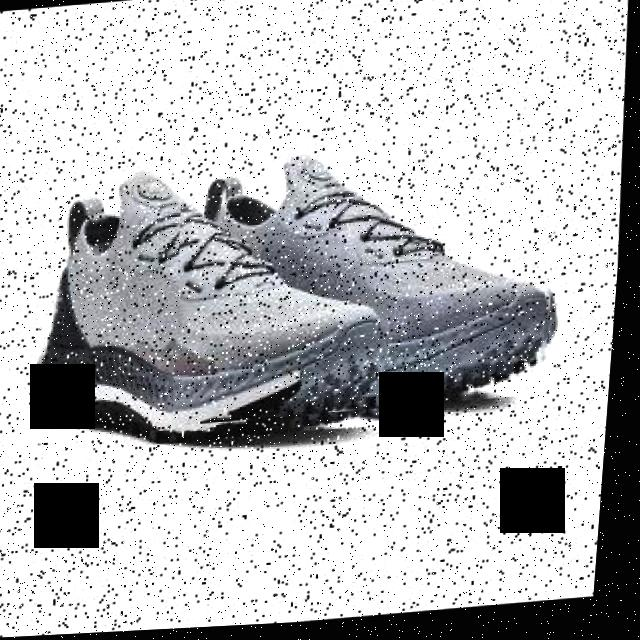shoe: (170, 139, 575, 428), (28, 153, 414, 456)
